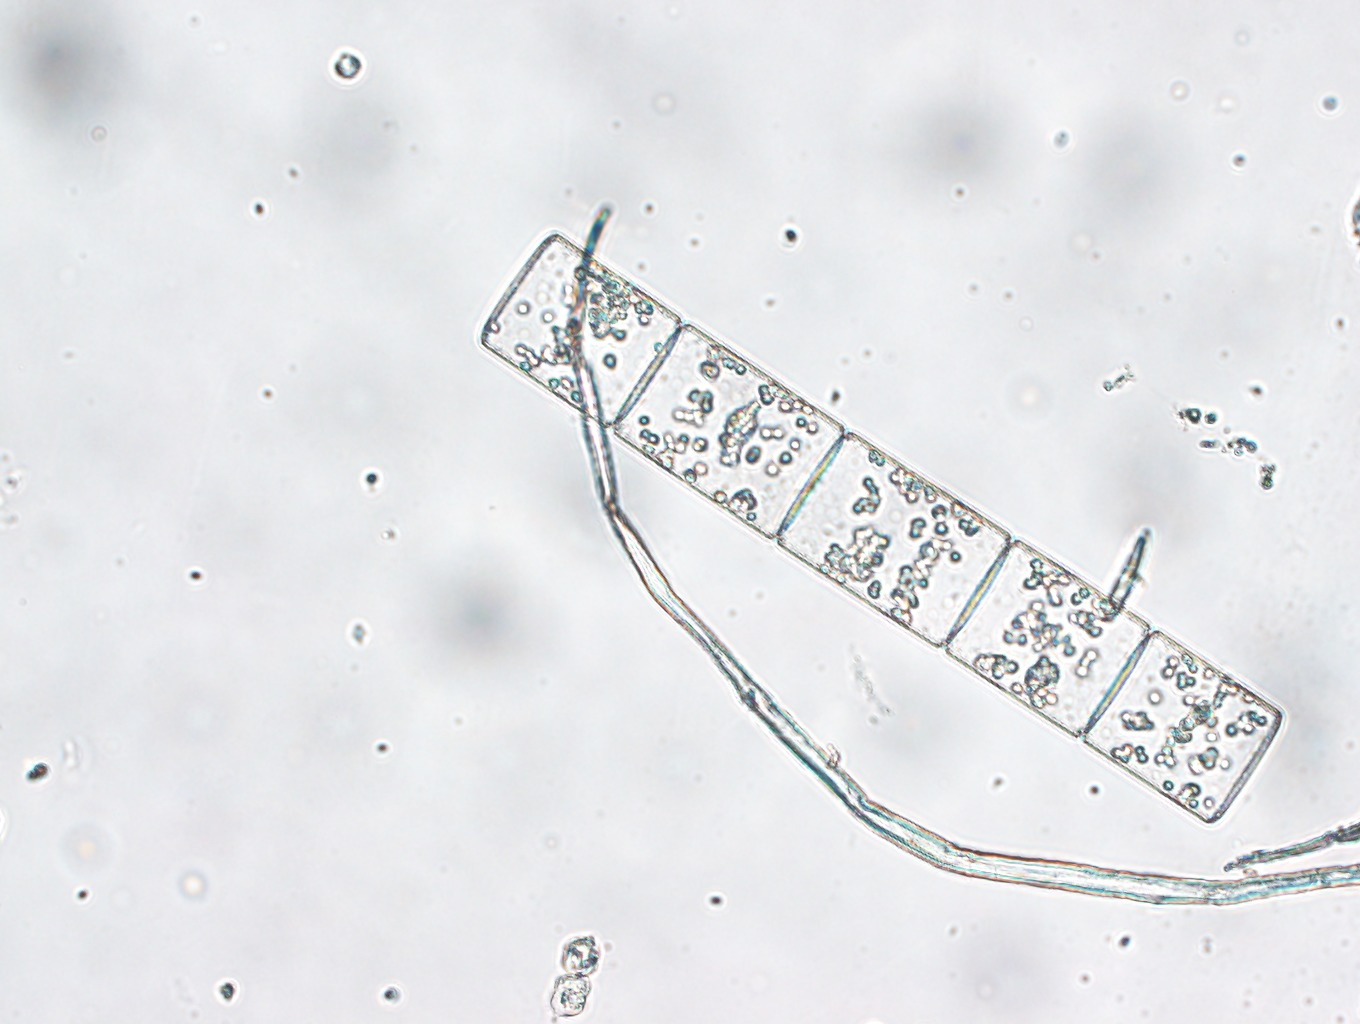guinardia flaccida: (473, 226, 1287, 825)
